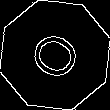O_SE: (23, 24, 87, 86)
